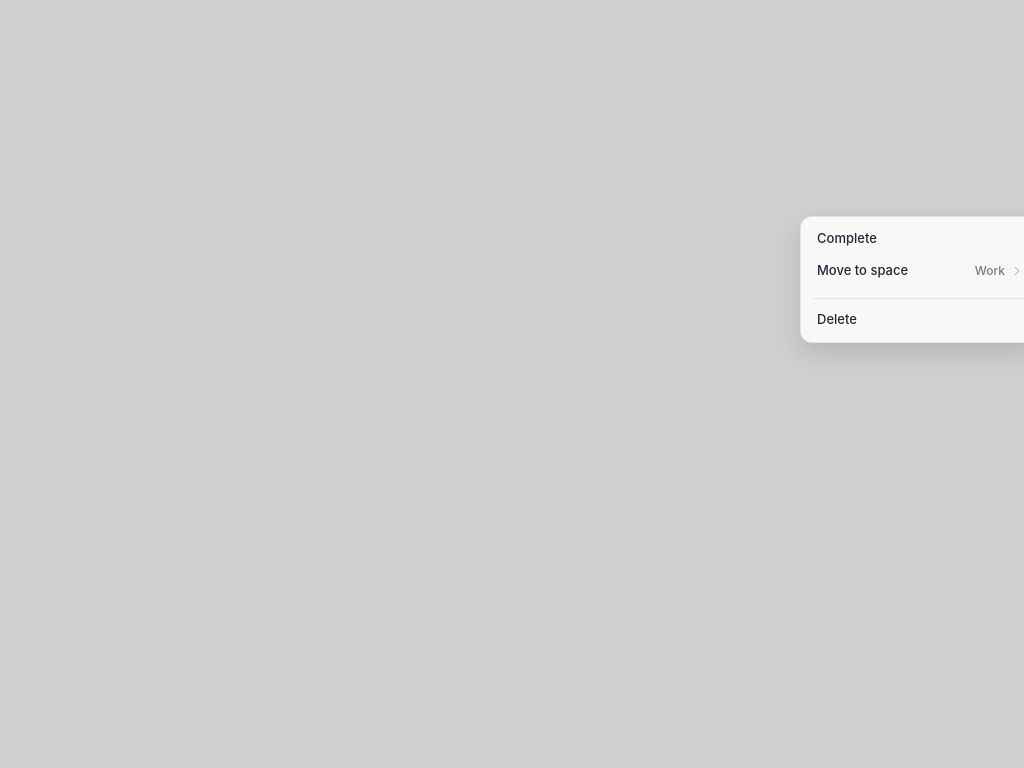
Test: ContextMenu — accordion submenu (wide) › selected child gets a checkmark element
Click the button "Move to space Work".
click(916, 271)  # box [807, 255, 1023, 287]
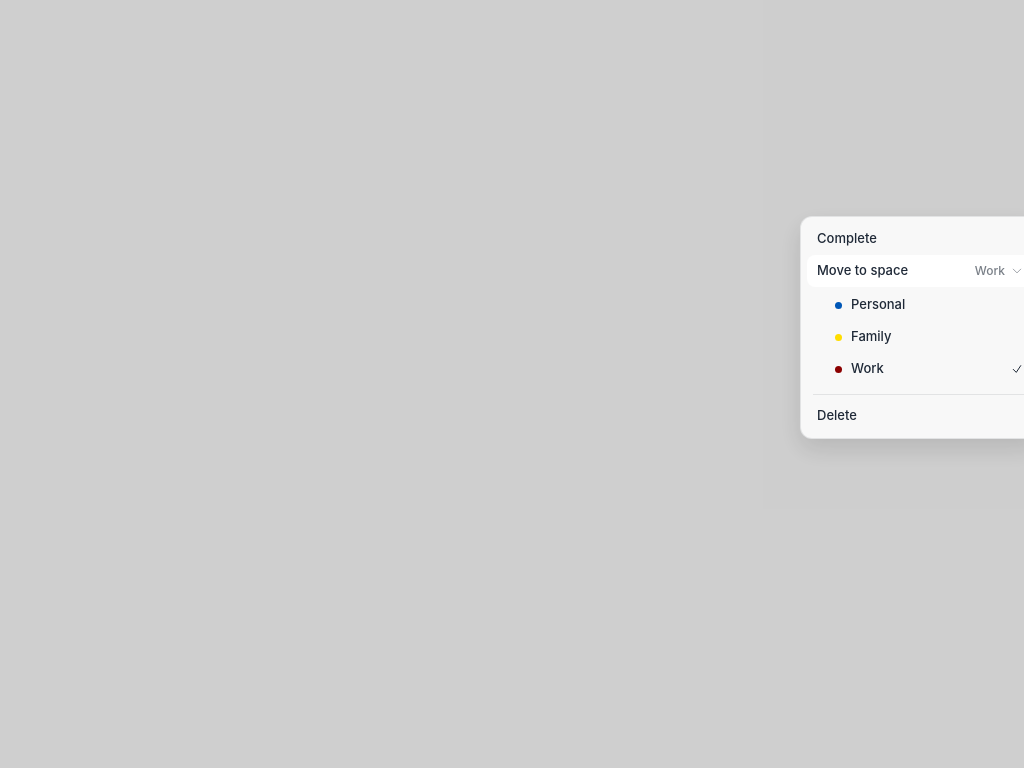
Expected: the icon with class "si-chk" is shown, [1011, 363, 1023, 375]
